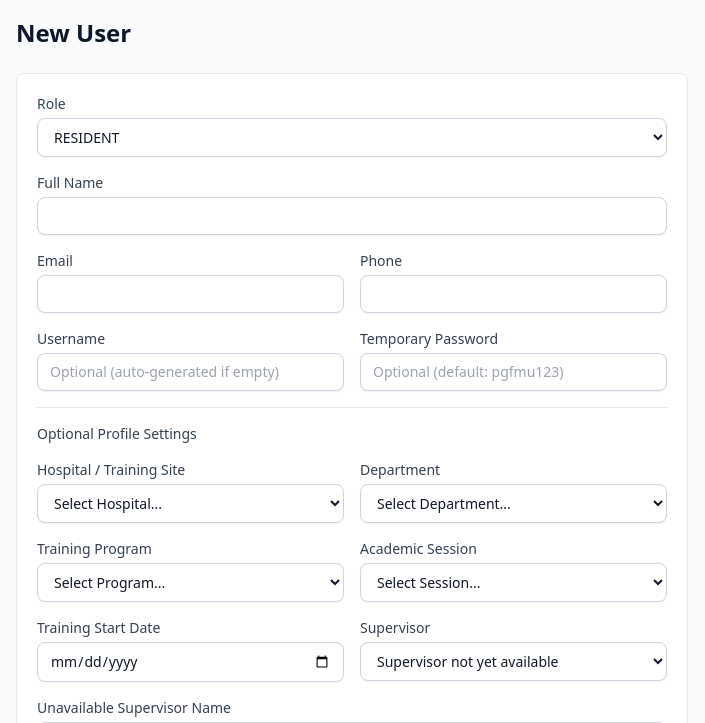
Test: retains entered values and permits retry after failure 0
Type "Retry Person" into the field labelled "Full Name" at {"x": 352, "y": 216}, box [37,197,667,235]
(page scrolled)
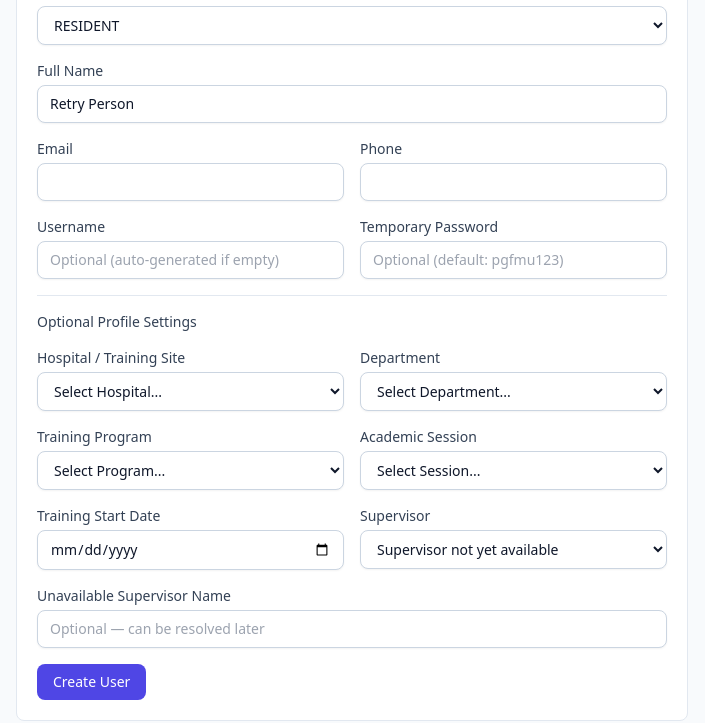
Click the button "Create User" at {"x": 92, "y": 682}, box [37,664,146,700]
(page scrolled)
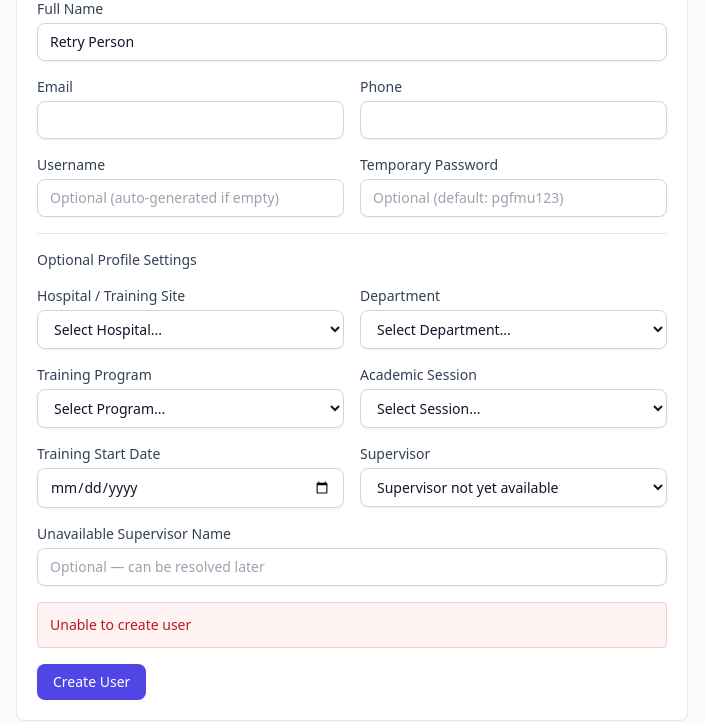
Check: the text "Unable to create user" is shown, box [37,602,667,648]
Click the button "Create User" at {"x": 92, "y": 682}, box [37,664,146,700]
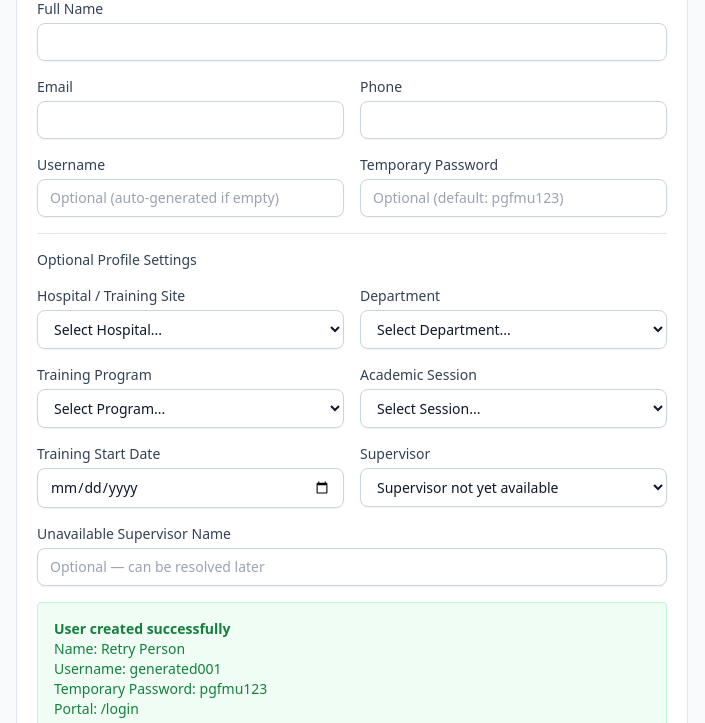
Check: the text "User created successfully" is shown, box [54,619,230,638]
